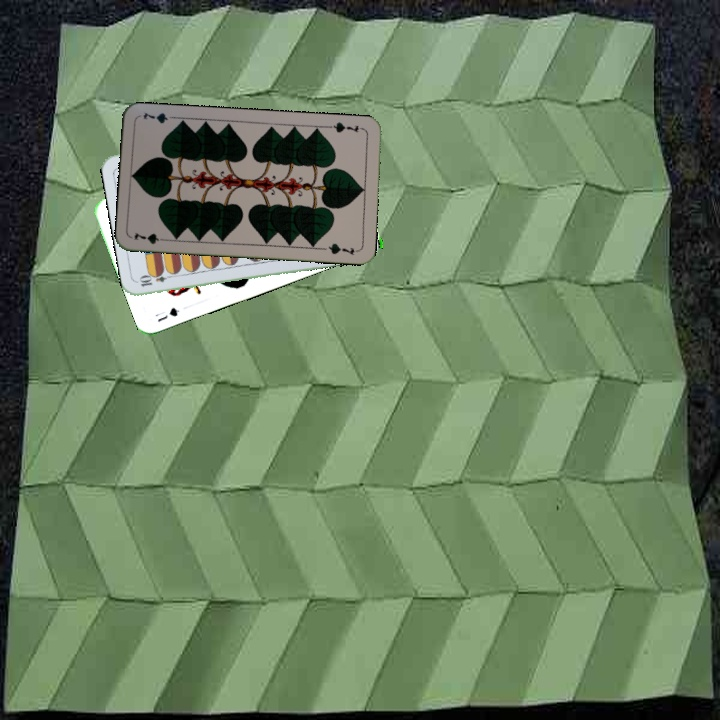E10: (135, 270, 176, 289)
G7: (130, 229, 171, 247), (325, 118, 366, 135)
GU: (153, 303, 182, 324)
